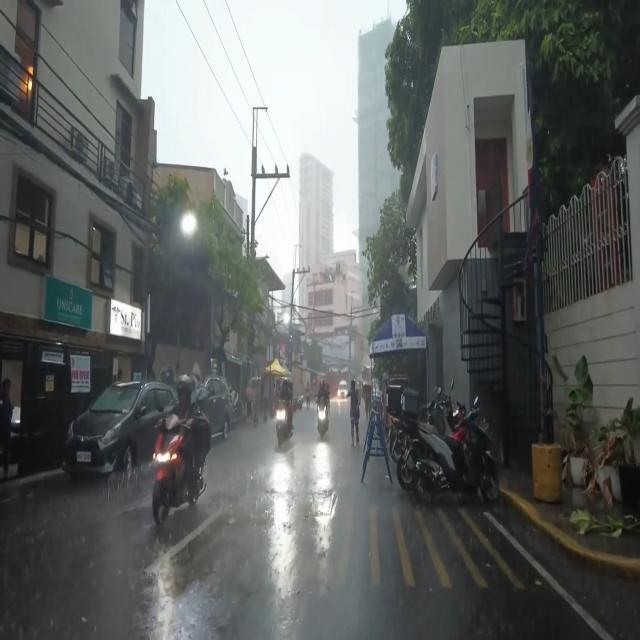half: (176, 373, 193, 407)
